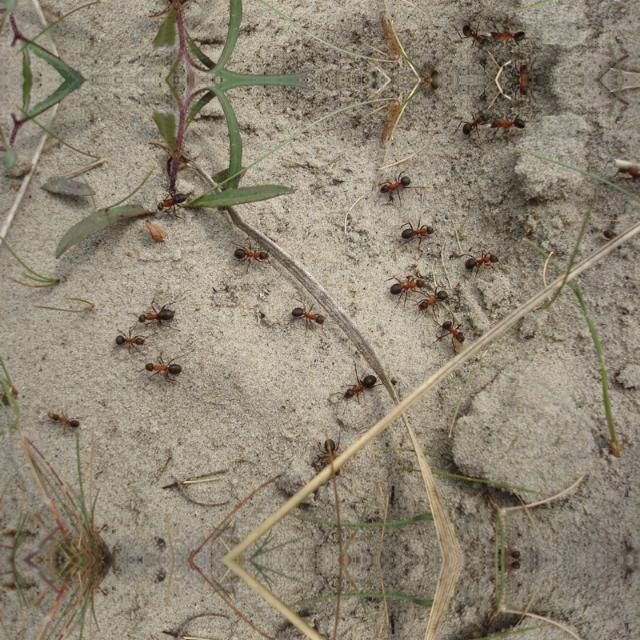Formica: (287, 296, 337, 340), (374, 163, 424, 207), (130, 292, 183, 332), (336, 364, 380, 404), (138, 354, 188, 386), (39, 403, 91, 433), (111, 326, 159, 358), (225, 241, 281, 267), (318, 432, 346, 478), (385, 268, 425, 300), (436, 316, 474, 349), (390, 218, 438, 242), (462, 245, 498, 277), (456, 104, 488, 136), (456, 24, 488, 56), (412, 288, 453, 310), (614, 149, 640, 183), (488, 114, 536, 132), (488, 28, 536, 46), (160, 188, 193, 214), (507, 80, 541, 100), (507, 60, 541, 80), (612, 0, 638, 10)
